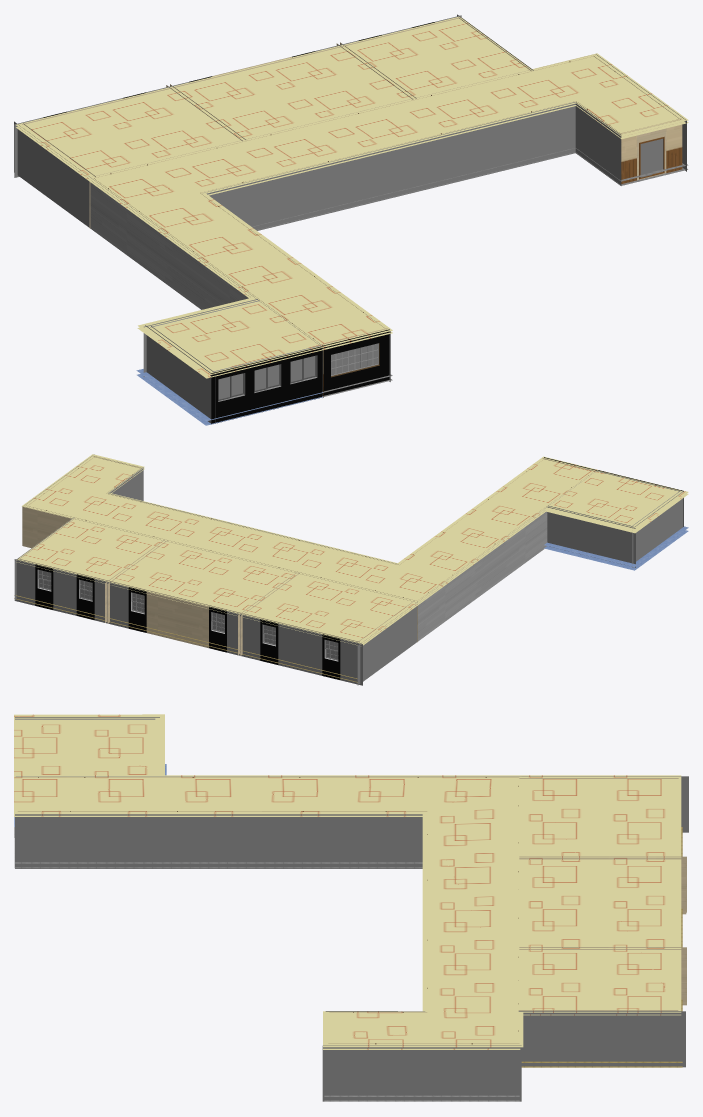
File: Office_Def.FBX
The picture shows the model from 3 angles, top to bottom: view 1: azimuth 30°, elevation 25°; view 2: azimuth 150°, elevation 25°; view 3: azimuth 270°, elevation 25°; orthographic projection. The views are drawn at different scales.
Visible parts, largest first — view 1: soffitto001, Planimetria, soffitto, pavimento, pavimento001, finestra ufficio012; view 2: soffitto001, Planimetria, soffitto, pavimento, pavimento001; view 3: soffitto001, Planimetria, pavimento, pavimento001, soffitto.
Boxes of the visible parts, x1,y1,x2,y2 form: soffitto001: (16, 16, 688, 375); Planimetria: (14, 14, 686, 423); soffitto: (16, 105, 688, 378); pavimento: (136, 148, 688, 421); pavimento001: (137, 152, 687, 425); finestra ufficio012: (331, 343, 378, 375); soffitto001: (16, 454, 688, 644); Planimetria: (14, 454, 683, 685); soffitto: (16, 468, 688, 645); pavimento: (14, 526, 688, 678); pavimento001: (14, 530, 688, 682); soffitto001: (14, 714, 681, 1047); Planimetria: (15, 717, 688, 1101); pavimento: (14, 764, 682, 1096); pavimento001: (14, 833, 682, 1101); soffitto: (14, 814, 680, 1049).
Bounding box in the file's own units: 42.08 × 3.46 × 36.07.
